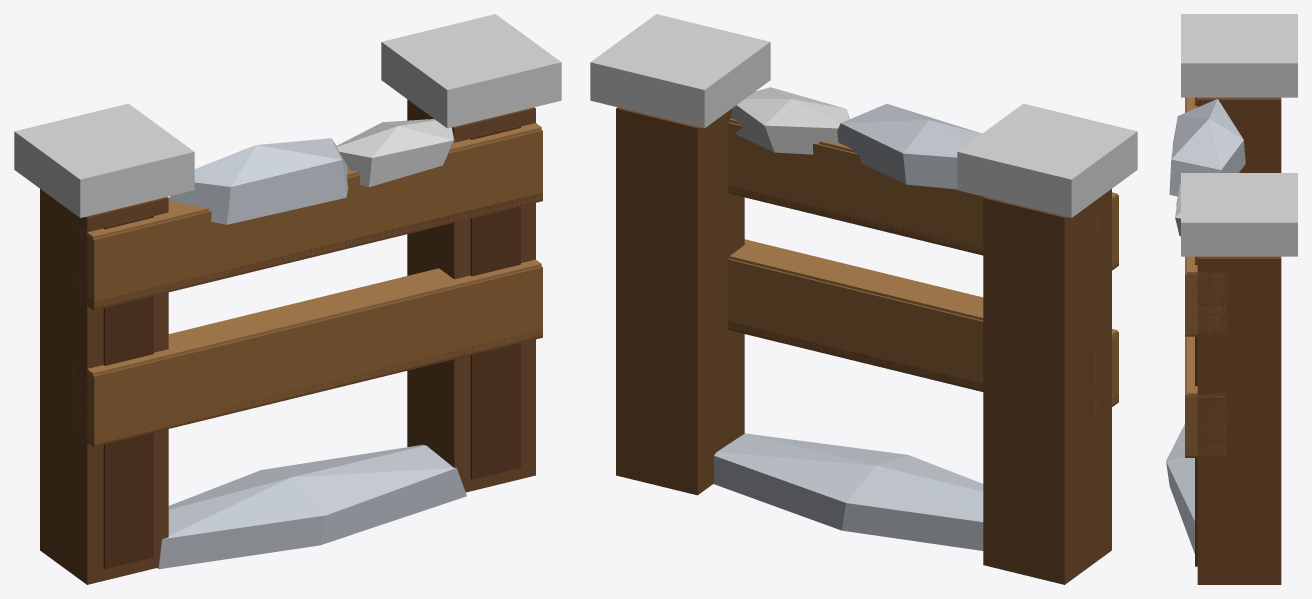
File: prop_fence.glb
The picture shows the model from 3 angles, left to right: view 1: azimuth 30°, elevation 25°; view 2: azimuth 150°, elevation 25°; view 3: azimuth 270°, elevation 25°; orthographic projection. The views are drawn at different scales.
Visible parts, largest first — view 1: prop_fence; view 2: prop_fence; view 3: prop_fence.
Part boxes in pixels (x1=…): prop_fence: x1=14, y1=14, x2=561, y2=584; prop_fence: x1=590, y1=14, x2=1137, y2=584; prop_fence: x1=1166, y1=14, x2=1297, y2=584.
Size of the model in its own units: 1.18 by 1.02 by 0.3155.
